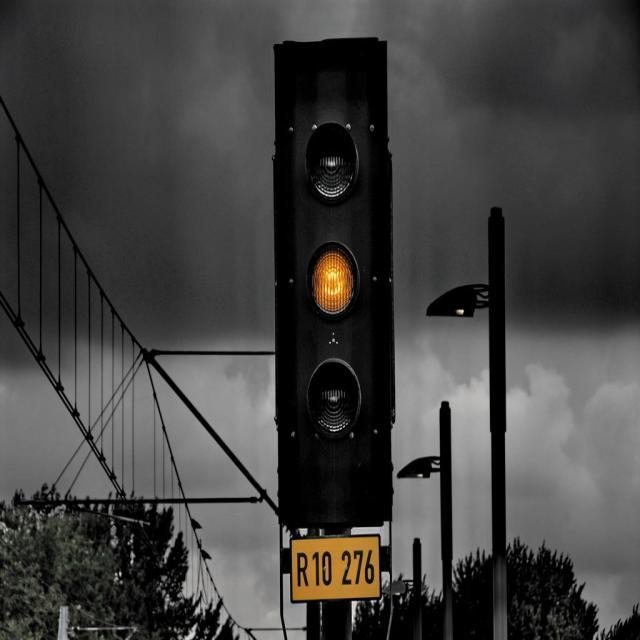traffic light: (270, 37, 396, 538)
